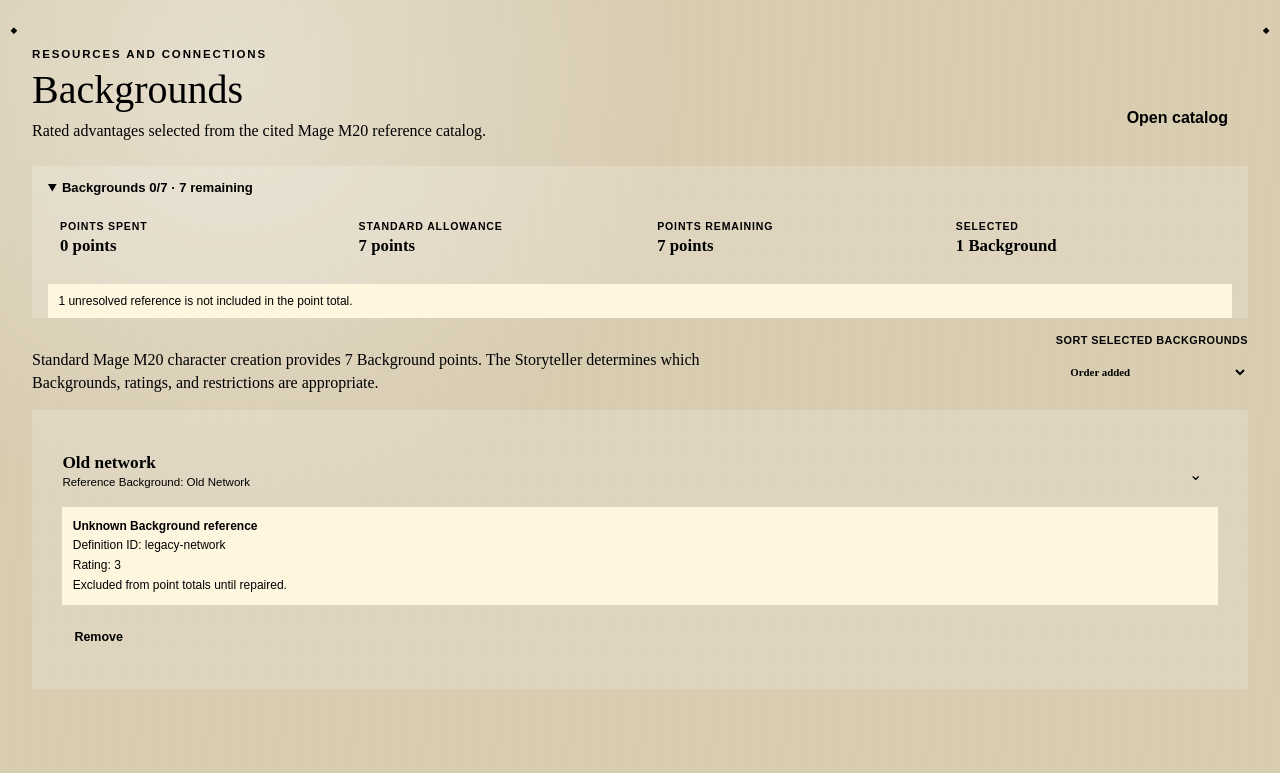
Test: Background editor › preserves and repairs an unresolved imported reference
Expected: the text "1 unresolved reference is not included in the point total." is shown, [48,284,1232,318]
Click the button named "Expand selected Old network" at (1196, 475), box [1174,453,1218,497]
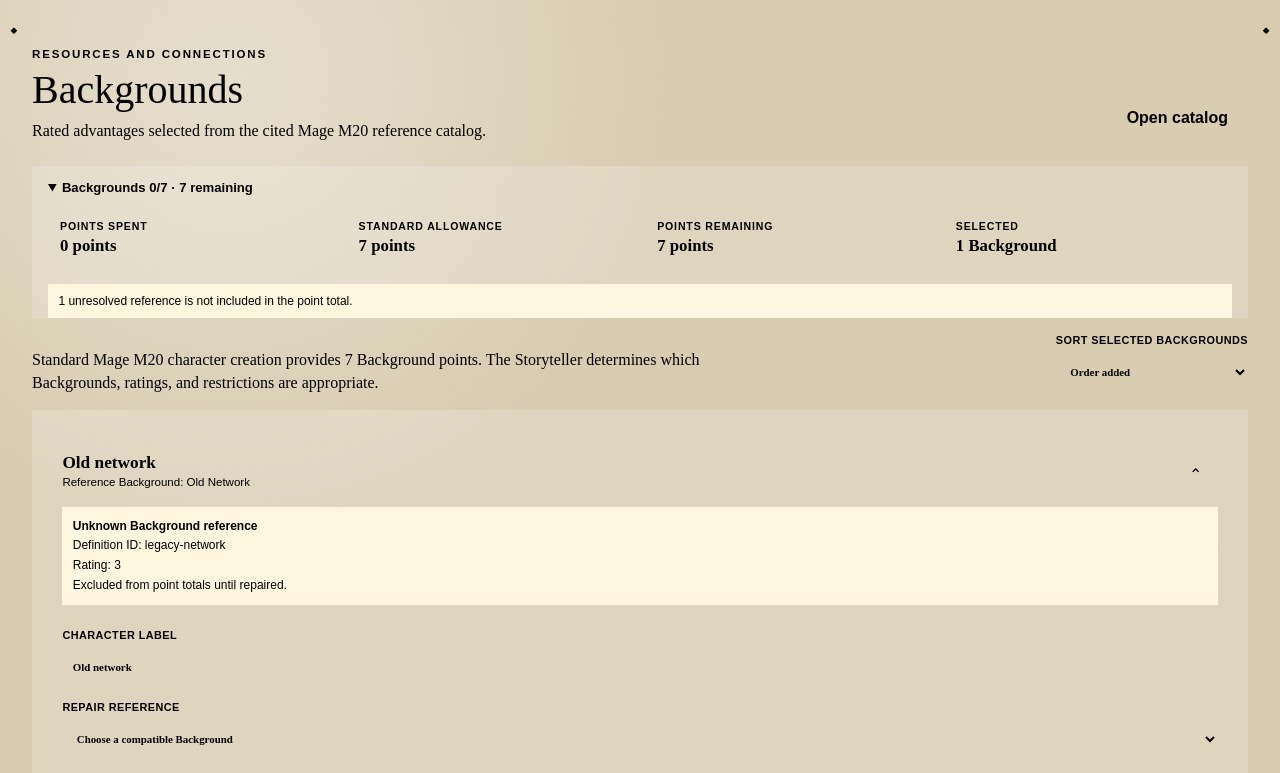
Select "Resources" in the dropdown labelled "Repair reference" at (640, 739), box [62,717,1218,761]
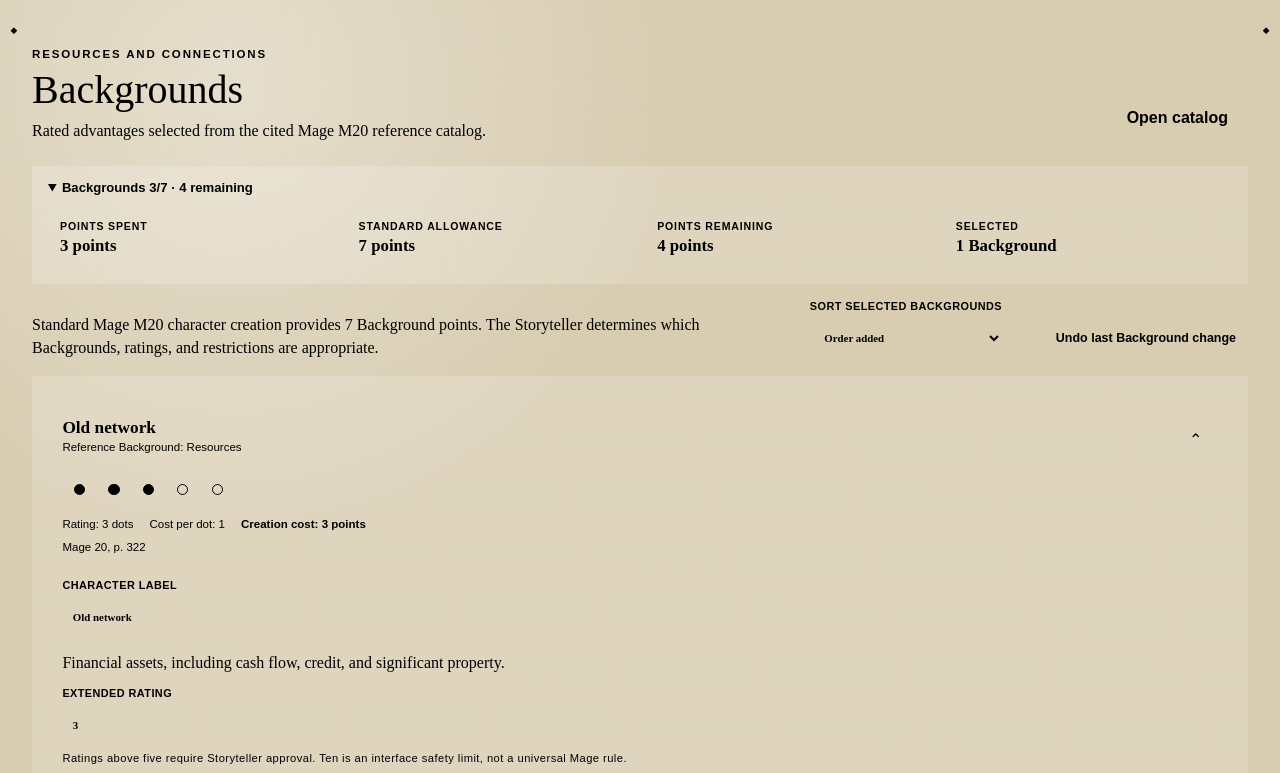
Result: the heading "Backgrounds 3/7 · 4 remaining" is shown at [62,180,253,195]
